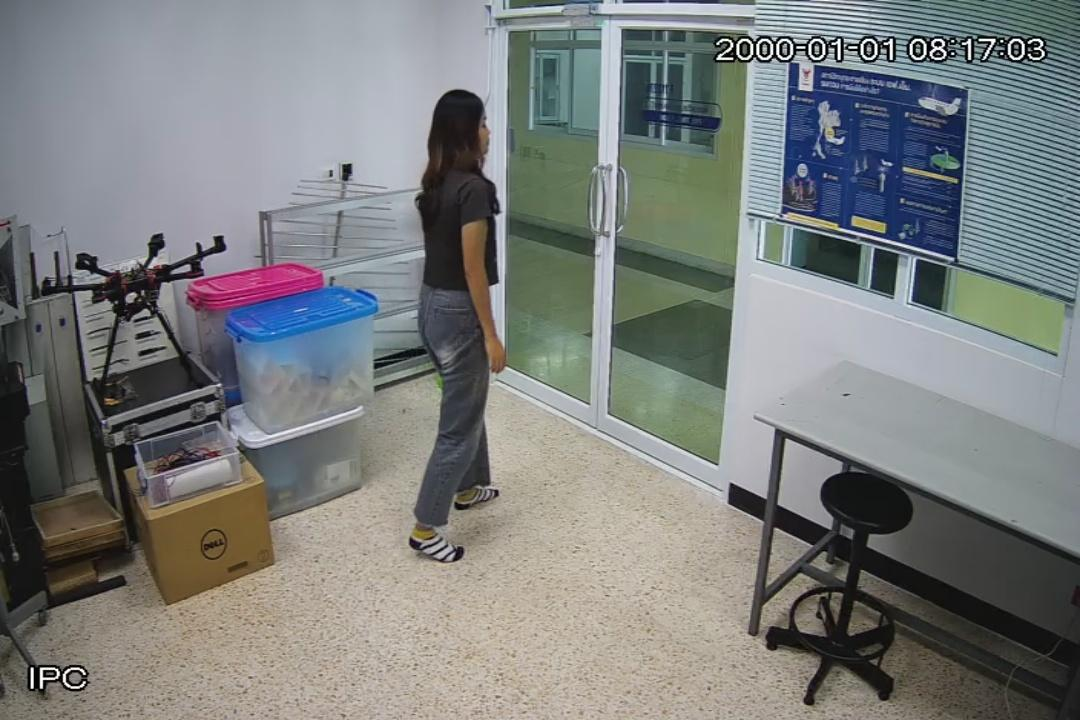normal: (406, 86, 511, 567)
